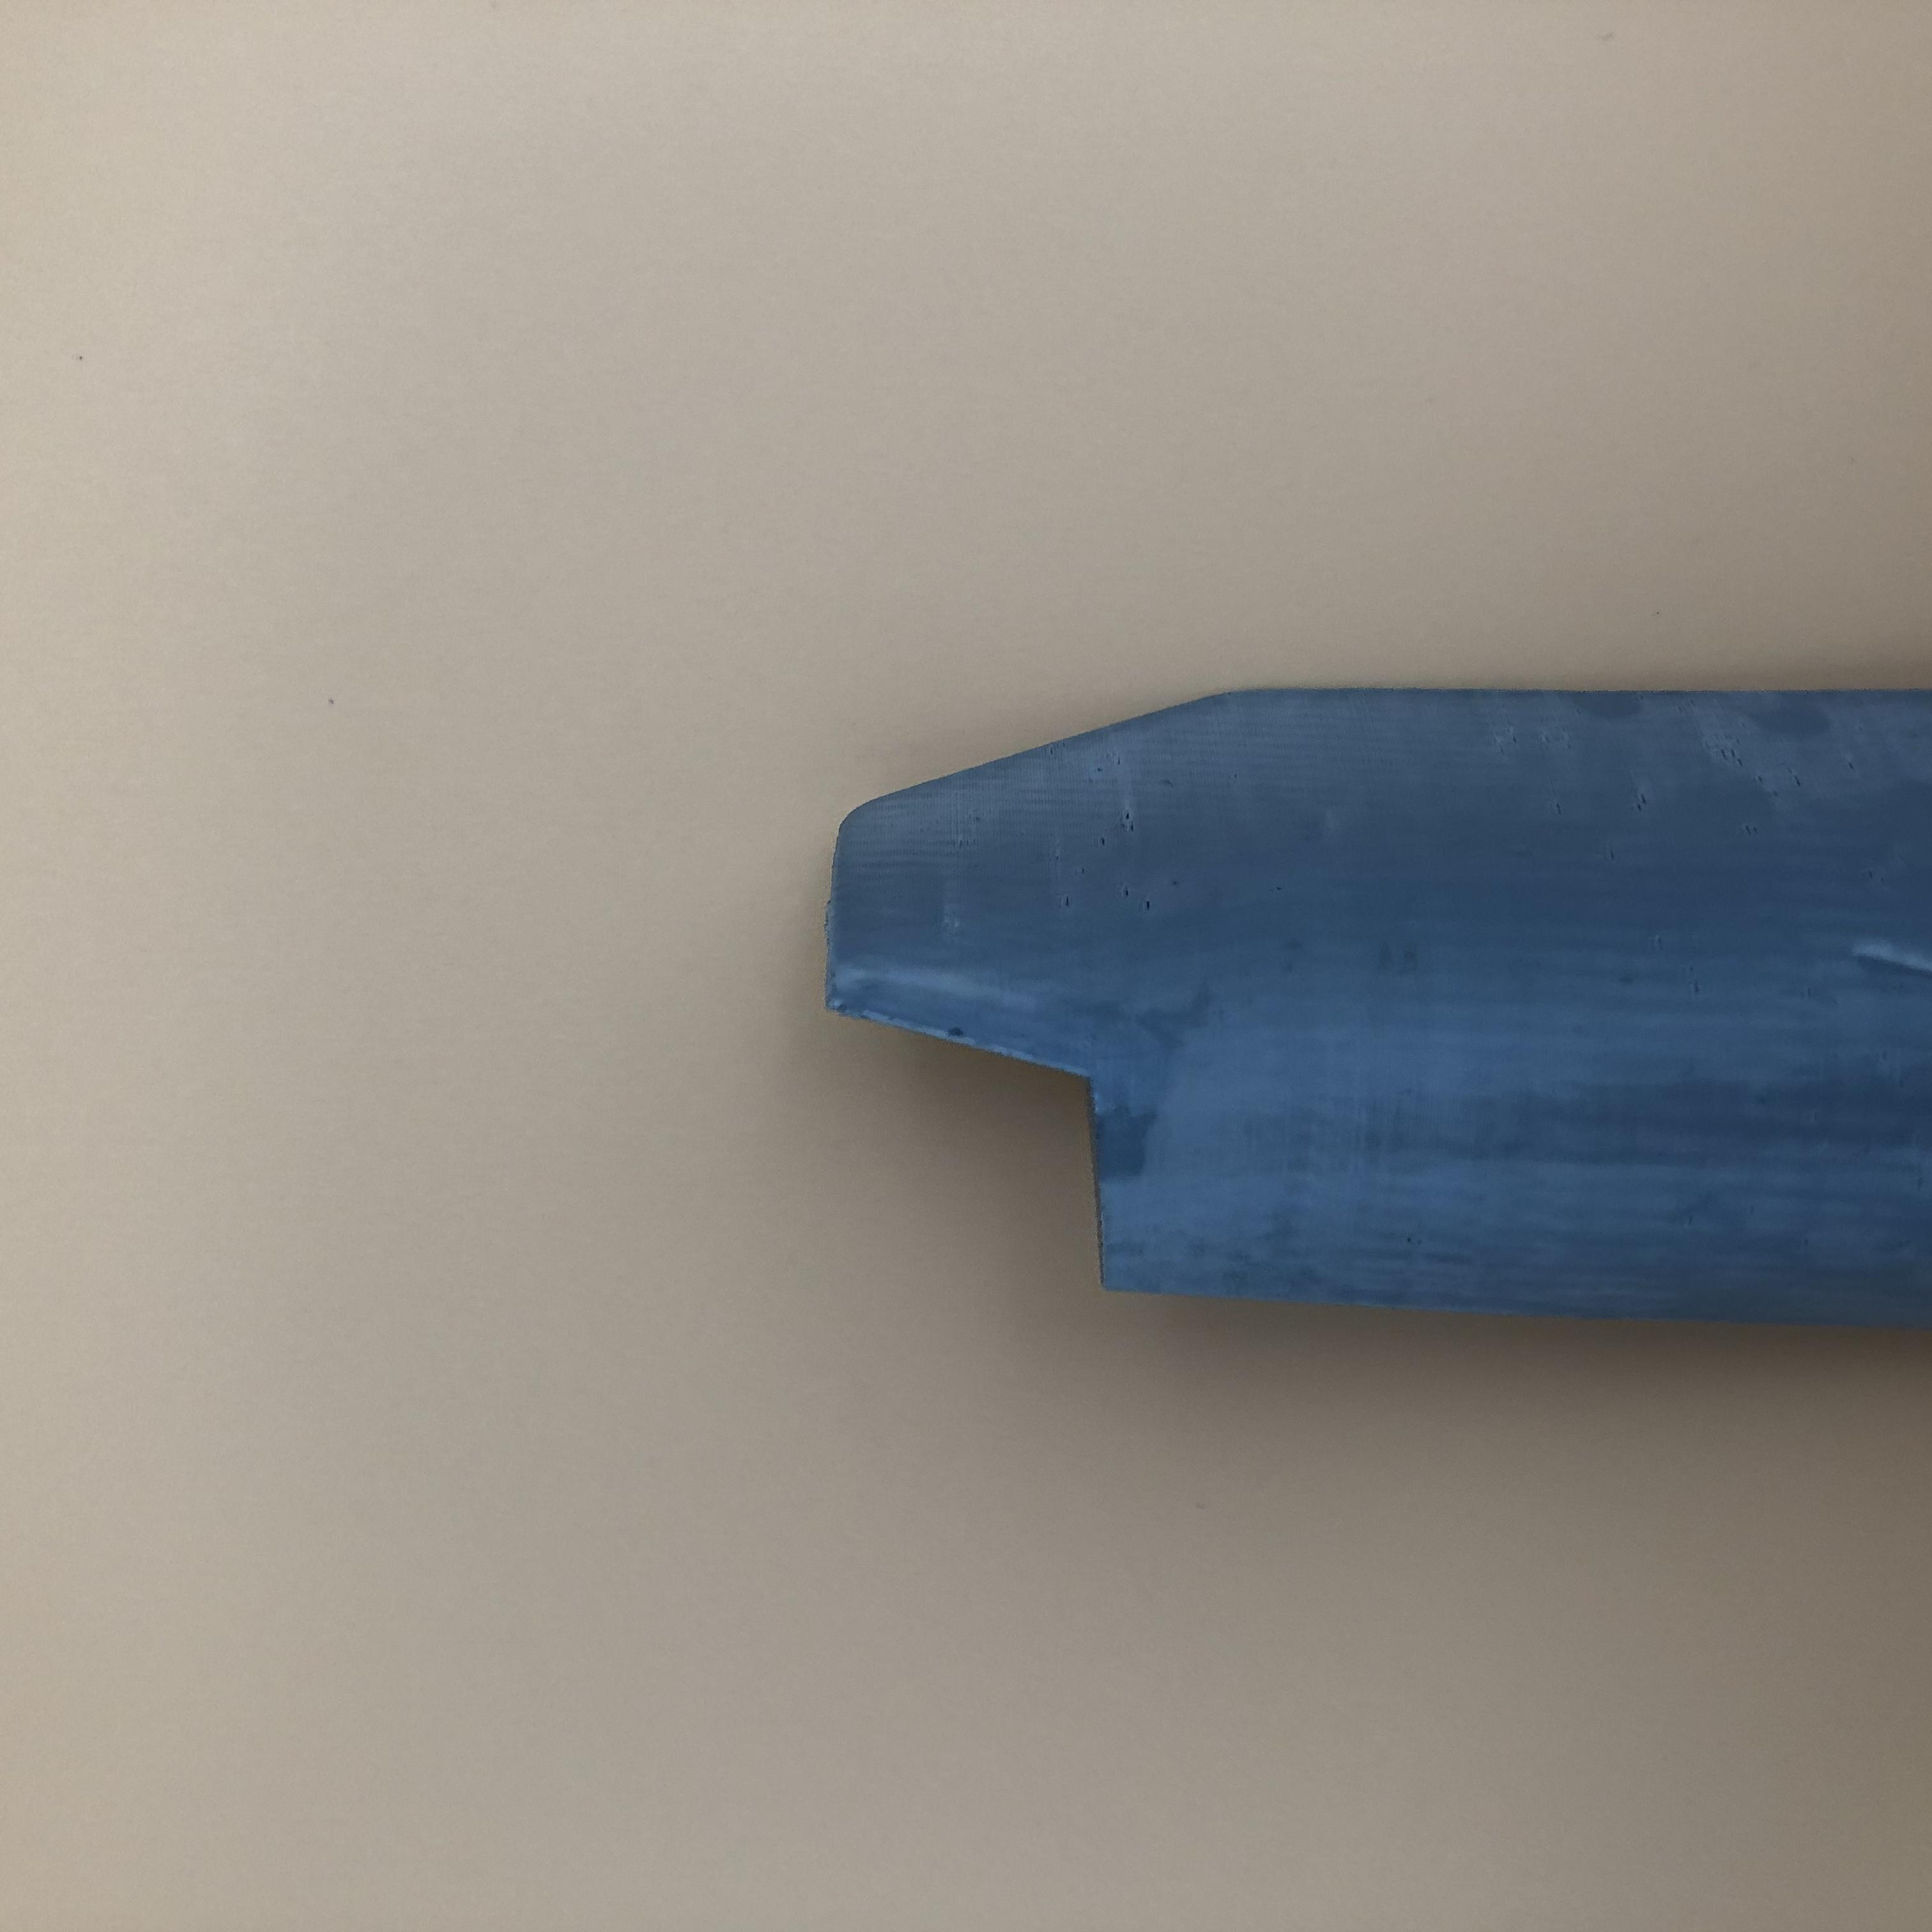fracture: (853, 985, 1134, 1281)
